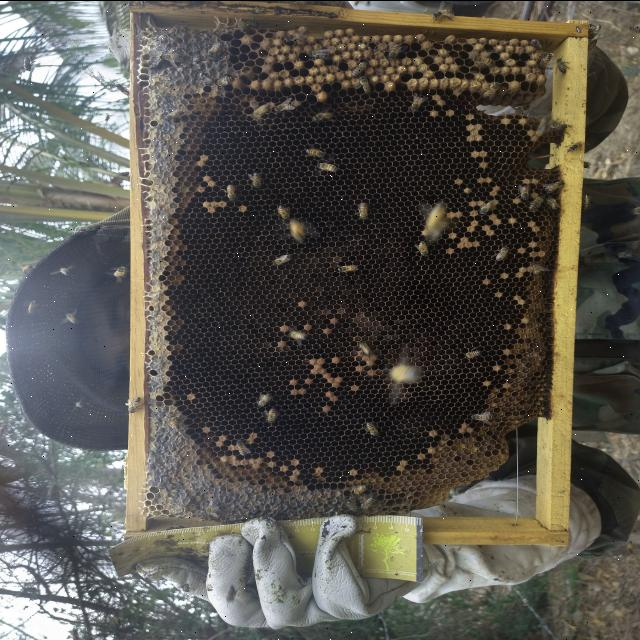cria: (230, 23, 548, 106), (277, 286, 421, 414), (436, 94, 522, 255), (187, 397, 300, 480)
marco: (149, 25, 563, 526)
